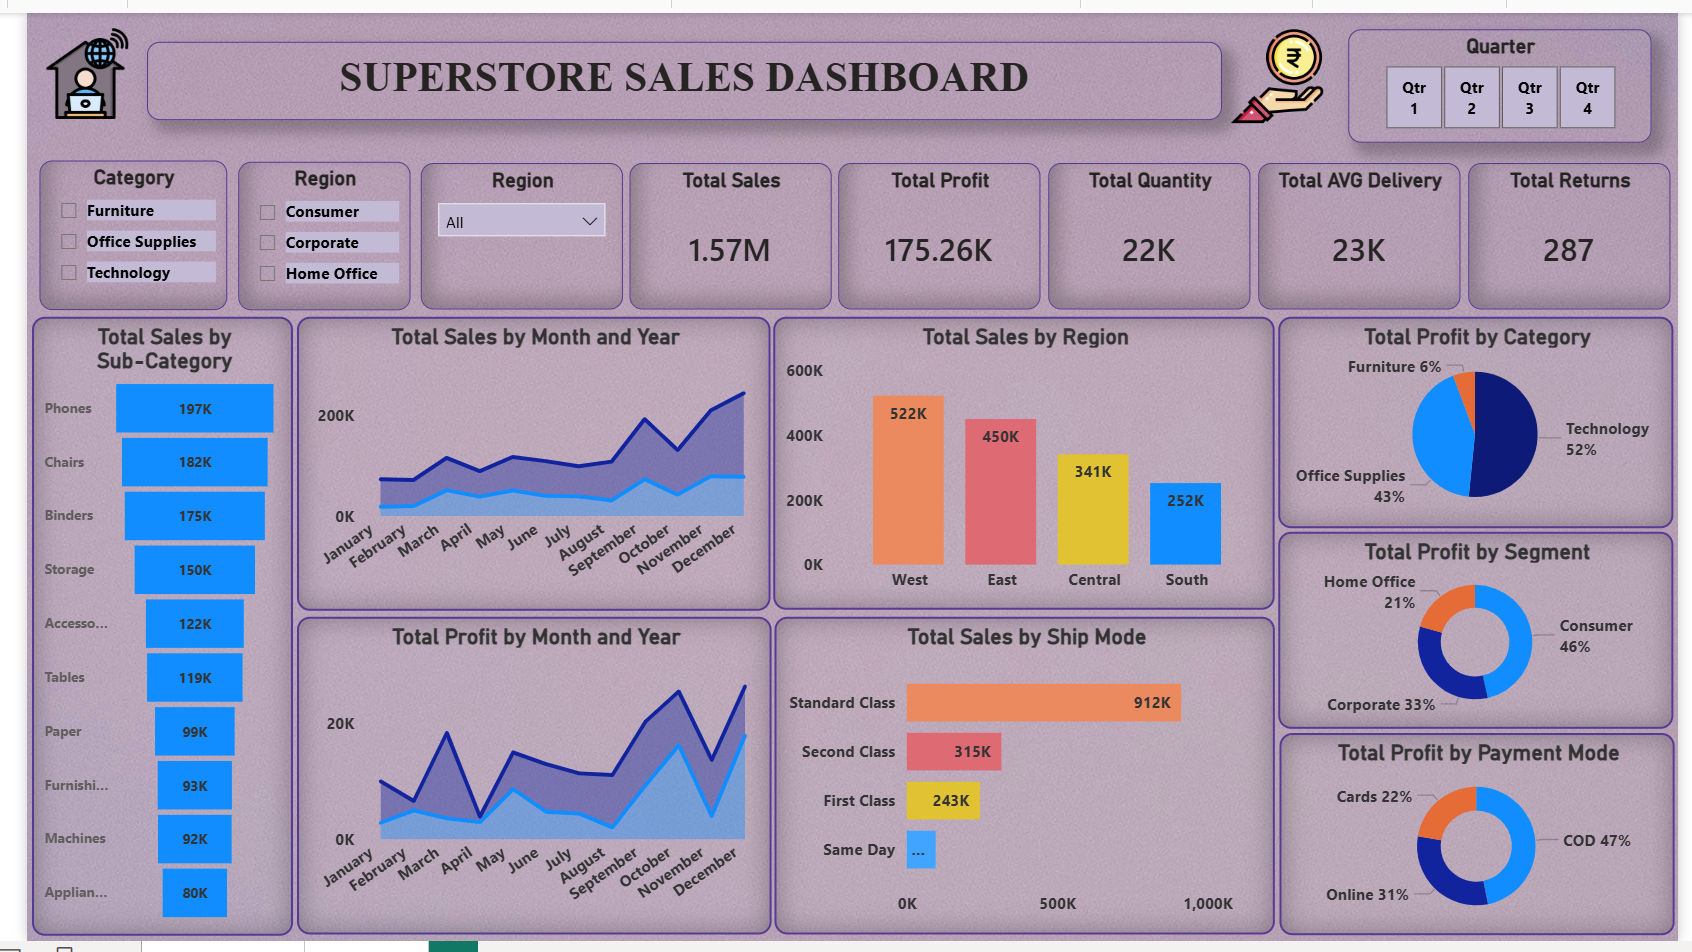

This screenshot's page, from the dashboard's own definition file:
{"tool":"powerbi","page":{"name":"Sales Dashboard","canvas":[1280,720],"ordinal":0},"visuals":[{"type":"stackedAreaChart","title":"Total Sales by Month and Year","fields":{"Y":["Sum(SuperStore_Sales_Dataset.Sales)"],"Series":["SuperStore_Sales_Dataset.Order Date.Variation.Date Hierarchy.Year"],"Category":["SuperStore_Sales_Dataset.Order Date.Variation.Date Hierarchy.Month"]},"box":[209,235.3,367,228],"z":0},{"type":"lineStackedColumnComboChart","title":"Total Sales by Region","fields":{"Category":["SuperStore_Sales_Dataset.Region"],"Y":["Sum(SuperStore_Sales_Dataset.Sales)"]},"box":[579.1,235.3,388.7,227.6],"z":1000},{"type":"pieChart","title":"Total Profit by Category","fields":{"Category":["SuperStore_Sales_Dataset.Category"],"Y":["Sum(SuperStore_Sales_Dataset.Profit)"]},"box":[970.7,235.9,306,164],"z":2000},{"type":"funnel","title":"Total Sales by Sub-Category","fields":{"Category":["SuperStore_Sales_Dataset.Sub-Category"],"Y":["Sum(SuperStore_Sales_Dataset.Sales)"]},"box":[4.2,235.9,202.7,480.1],"z":3000},{"type":"donutChart","title":"Total Profit by Payment Mode","fields":{"Category":["SuperStore_Sales_Dataset.Payment Mode"],"Y":["Sum(SuperStore_Sales_Dataset.Profit)"]},"box":[971,558,306,157],"z":4000},{"type":"slicer","title":"Quarter","fields":{"Values":["SuperStore_Sales_Dataset.Order Date.Variation.Date Hierarchy.Quarter"]},"box":[1024.4,12.8,234.9,88.4],"z":5000},{"type":"donutChart","title":"Total Profit by Segment","fields":{"Category":["SuperStore_Sales_Dataset.Segment"],"Y":["Sum(SuperStore_Sales_Dataset.Profit)"]},"box":[970.7,402.2,306,152.8],"z":6000},{"type":"stackedAreaChart","title":"Total Profit by Month and Year","fields":{"Category":["SuperStore_Sales_Dataset.Order Date.Variation.Date Hierarchy.Month","SuperStore_Sales_Dataset.Order Date.Variation.Date Hierarchy.Year"],"Y":["Sum(SuperStore_Sales_Dataset.Profit)"],"Series":["SuperStore_Sales_Dataset.Order Date.Variation.Date Hierarchy.Year"]},"box":[209,468.3,368,246],"z":7000},{"type":"barChart","title":"Total Sales by Ship Mode","fields":{"Category":["SuperStore_Sales_Dataset.Ship Mode"],"Y":["Sum(SuperStore_Sales_Dataset.Sales)"]},"box":[579.5,468.5,388.3,246],"z":8000},{"type":"slicer","title":"Region","fields":{"Values":["SuperStore_Sales_Dataset.Region"]},"box":[305,116.3,157,114],"z":9000},{"type":"cardVisual","title":"Total Profit","fields":{"Data":["Sum(SuperStore_Sales_Dataset.Profit)"]},"box":[628.9,116.5,157,114],"z":10000},{"type":"cardVisual","title":"Total Quantity","fields":{"Data":["Sum(SuperStore_Sales_Dataset.Quantity)"]},"box":[791.9,116.5,157,114],"z":11000},{"type":"cardVisual","title":"Total AVG Delivery","fields":{"Data":["Sum(SuperStore_Sales_Dataset.AvgDelivery)"]},"box":[954.9,116.5,157,114],"z":12000},{"type":"cardVisual","title":"Total Returns","fields":{"Data":["Sum(SuperStore_Sales_Dataset.Returns)"]},"box":[1117.9,116.5,157,114],"z":13000},{"type":"cardVisual","title":"Total Sales","fields":{"Data":["Sum(SuperStore_Sales_Dataset.Sales)"]},"box":[466.9,116,157,114],"z":14000},{"type":"textbox","box":[93.1,22.3,833.6,61.1],"z":15000},{"type":"slicer","title":"Category","fields":{"Values":["SuperStore_Sales_Dataset.Category"]},"box":[10,114,145.3,116],"z":16000},{"type":"slicer","title":"Region","fields":{"Values":["SuperStore_Sales_Dataset.Segment"]},"box":[164,115,133.7,115],"z":17001},{"type":"image","box":[885.5,12.5,169.4,72.7],"z":17002},{"type":"image","box":[0,10.4,93.5,72.7],"z":17003}]}

Visuals, with their boxes in screenshot pixels (x1, y1, x2, y2), scaled from the page's 1280x720 canvas onto the 1692x952 screenshot:
"Total Sales by Month and Year" stackedAreaChart: left=276, top=311, right=761, bottom=613
"Total Sales by Region" lineStackedColumnComboChart: left=765, top=311, right=1279, bottom=612
"Total Profit by Category" pieChart: left=1283, top=312, right=1688, bottom=529
"Total Sales by Sub-Category" funnel: left=6, top=312, right=273, bottom=947
"Total Profit by Payment Mode" donutChart: left=1284, top=738, right=1688, bottom=945
"Quarter" slicer: left=1354, top=17, right=1665, bottom=134
"Total Profit by Segment" donutChart: left=1283, top=532, right=1688, bottom=734
"Total Profit by Month and Year" stackedAreaChart: left=276, top=619, right=763, bottom=944
"Total Sales by Ship Mode" barChart: left=766, top=619, right=1279, bottom=945
"Region" slicer: left=403, top=154, right=611, bottom=305
"Total Profit" cardVisual: left=831, top=154, right=1039, bottom=305
"Total Quantity" cardVisual: left=1047, top=154, right=1254, bottom=305
"Total AVG Delivery" cardVisual: left=1262, top=154, right=1470, bottom=305
"Total Returns" cardVisual: left=1478, top=154, right=1685, bottom=305
"Total Sales" cardVisual: left=617, top=153, right=825, bottom=304
textbox: left=123, top=29, right=1225, bottom=110
"Category" slicer: left=13, top=151, right=205, bottom=304
"Region" slicer: left=217, top=152, right=394, bottom=304
image: left=1171, top=17, right=1394, bottom=113
image: left=0, top=14, right=124, bottom=110
